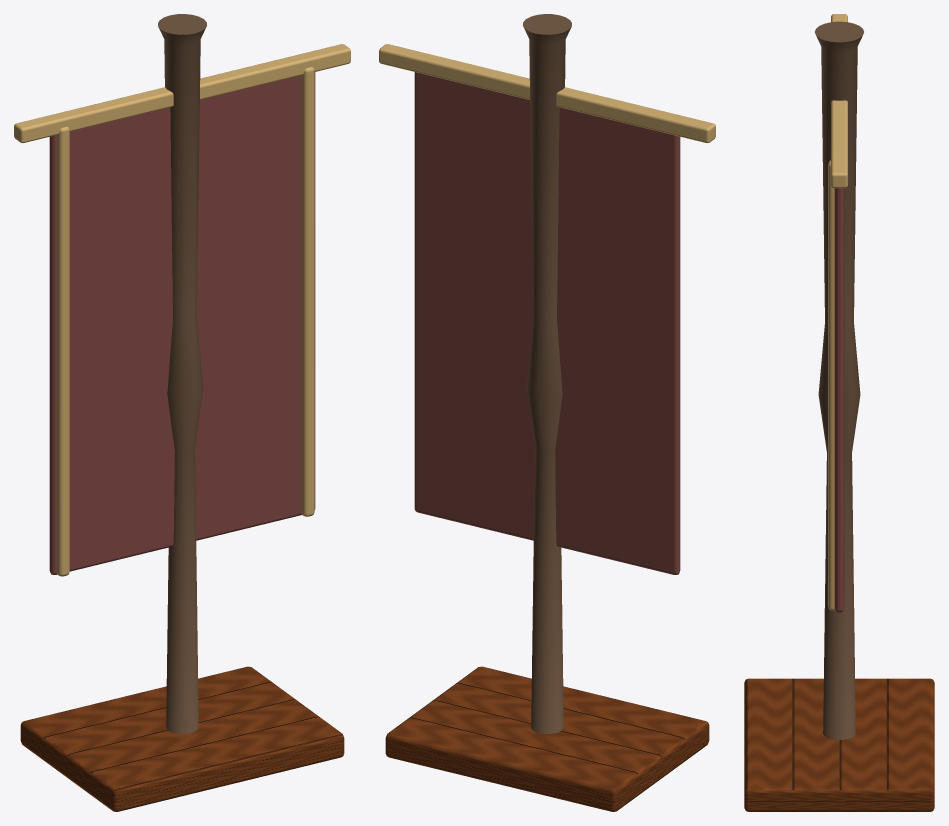
File: adventurers-tavern-and-guild-hall-banner-stand-28bce7df__24743.glb
3 views of the same model, side by side, from view 1: azimuth 30°, elevation 25°; view 2: azimuth 150°, elevation 25°; view 3: azimuth 270°, elevation 25° (orthographic).
Visible parts, largest first — view 1: banner-stand; view 2: banner-stand; view 3: banner-stand.
Boxes of the visible parts, left/top/right/bottom form: banner-stand: left=14, top=14, right=350, bottom=811; banner-stand: left=379, top=14, right=715, bottom=811; banner-stand: left=744, top=14, right=934, bottom=811.
Bounding box in the file's own units: 1 × 2.1 × 0.5.
4 materials, 1 textured.
